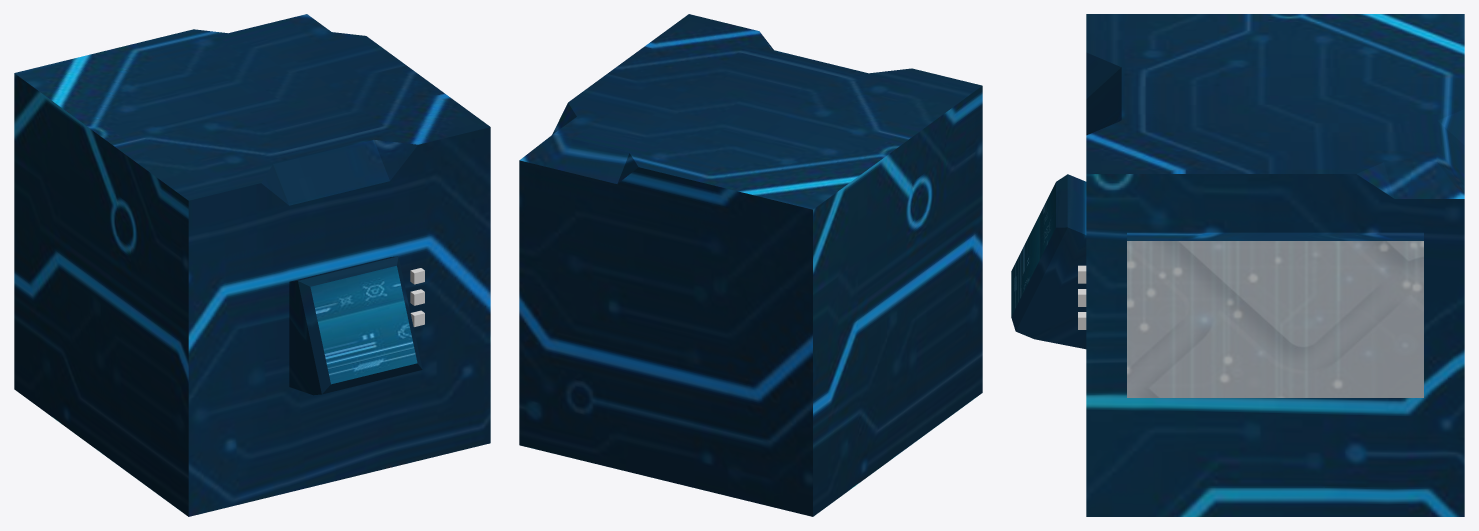
Rendered from Block06.fbx.
3 views of the same model, side by side, from view 1: azimuth 30°, elevation 25°; view 2: azimuth 150°, elevation 25°; view 3: azimuth 270°, elevation 25° (orthographic). The views are drawn at different scales.
Parts seen in each view (by area): view 1: Cube.004; view 2: Cube.004; view 3: Cube.004.
Part boxes in pixels (x1,y1,x2,y2): Cube.004: [14, 14, 490, 516]; Cube.004: [519, 14, 982, 516]; Cube.004: [1011, 14, 1464, 516].
Bounding box in the file's own units: 210 × 240 × 200.
